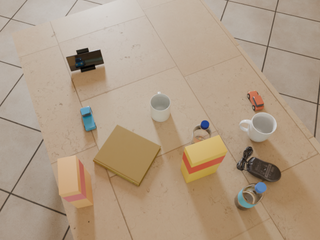book: (93, 125, 161, 186)
bottle: (235, 182, 266, 210), (190, 120, 212, 145)
box: (181, 135, 227, 183), (58, 156, 93, 208)
cup: (239, 113, 277, 142), (150, 92, 171, 122)
mouse: (237, 147, 281, 182)
phone: (66, 49, 104, 71)
toy_car: (80, 106, 96, 131), (247, 91, 264, 110)
